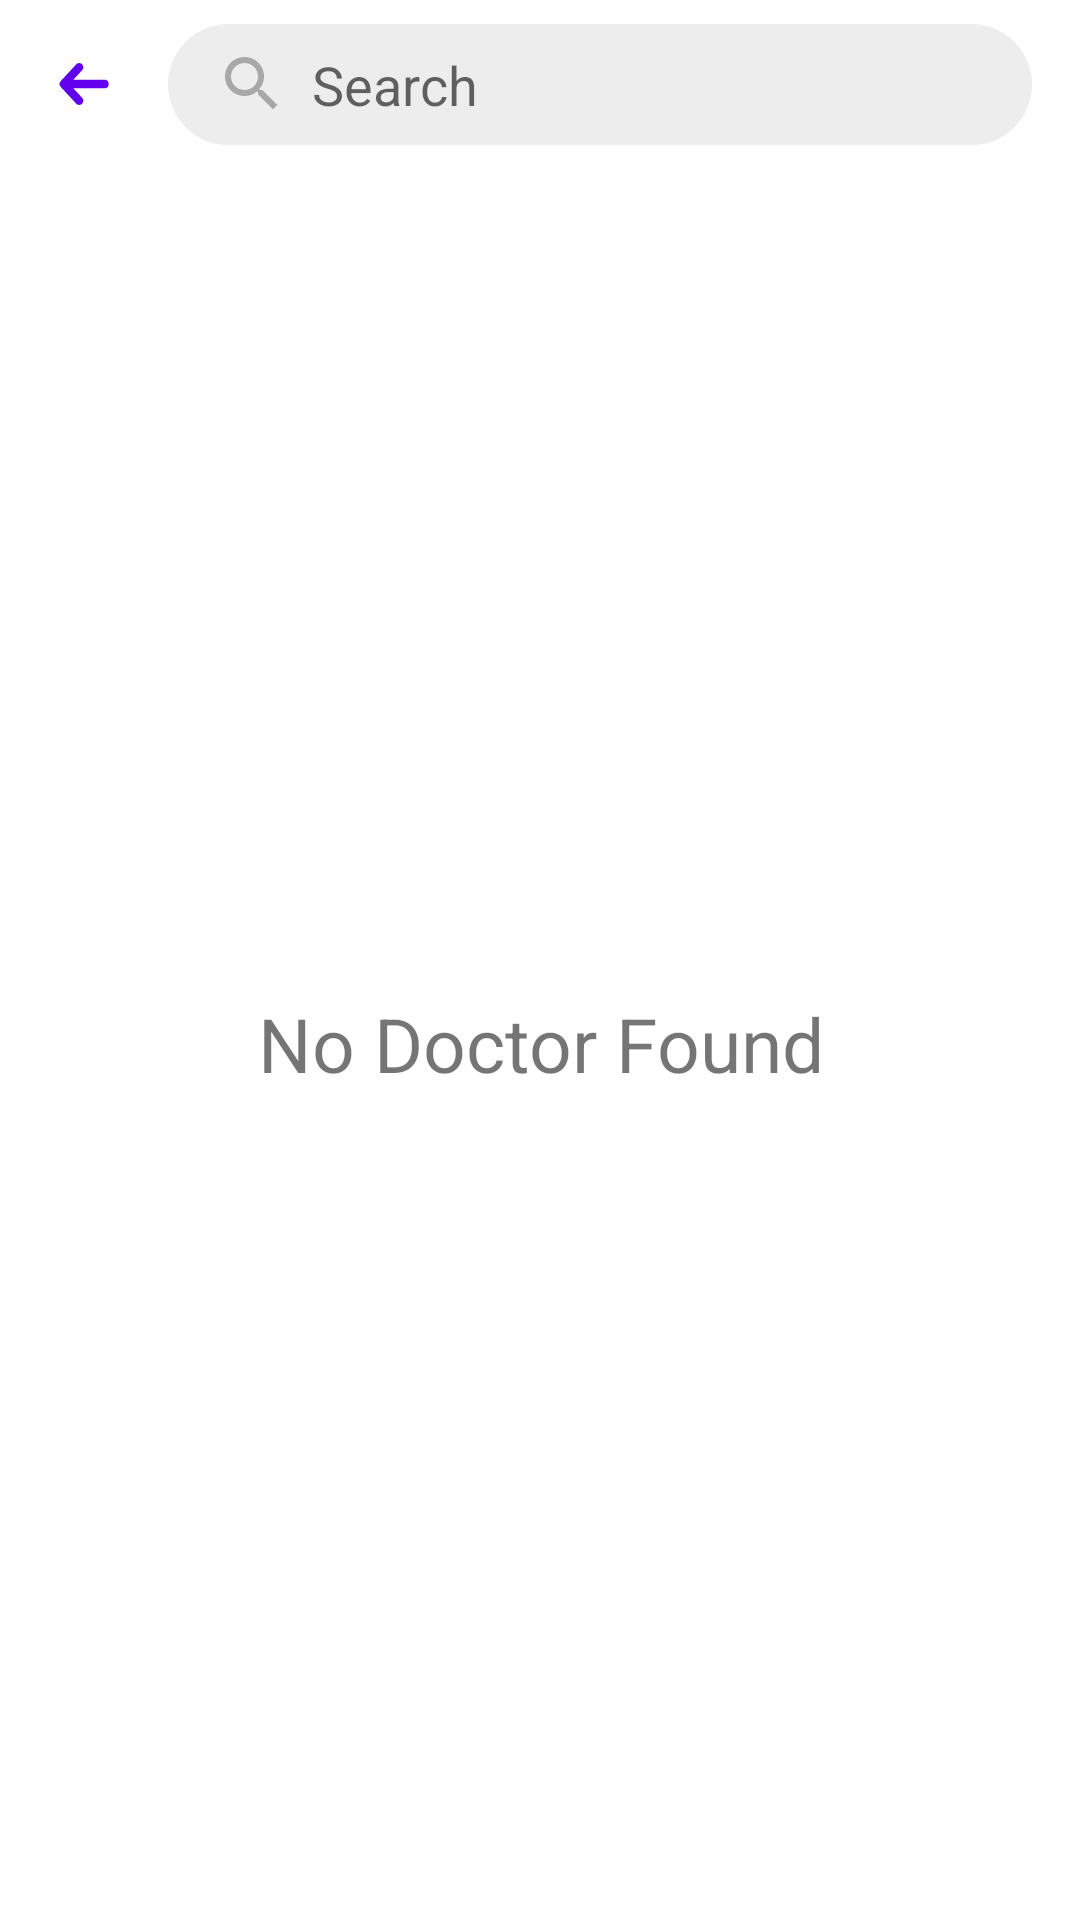

Where to tap for icons on this 1080px×1920px app screen, as point (x, y):
back: point (84, 84)
